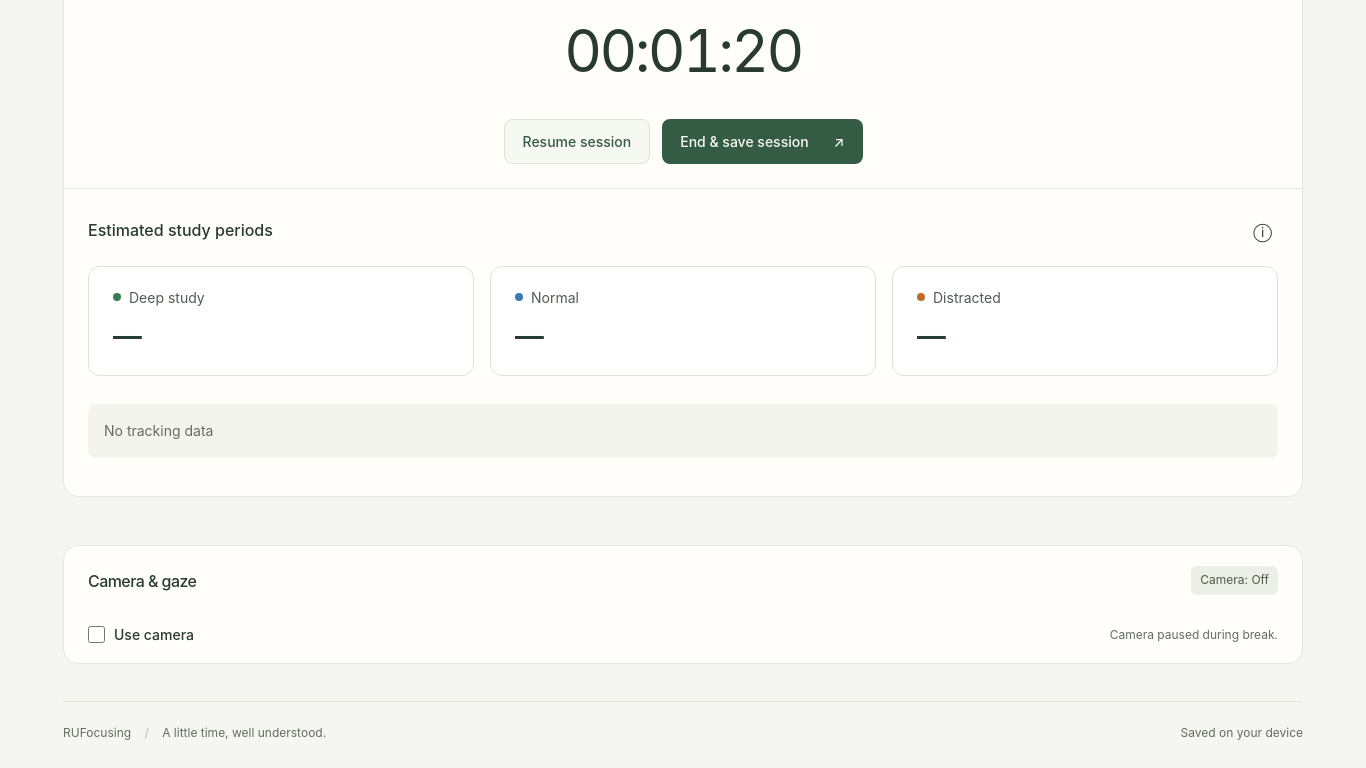
Scenario: Dashboard camera controls › keeps the preview closed when camera settings change during a break
(page scrolled)
Click the checkbox labelled "Use camera" at x=96, y=635, box [88, 626, 105, 644]
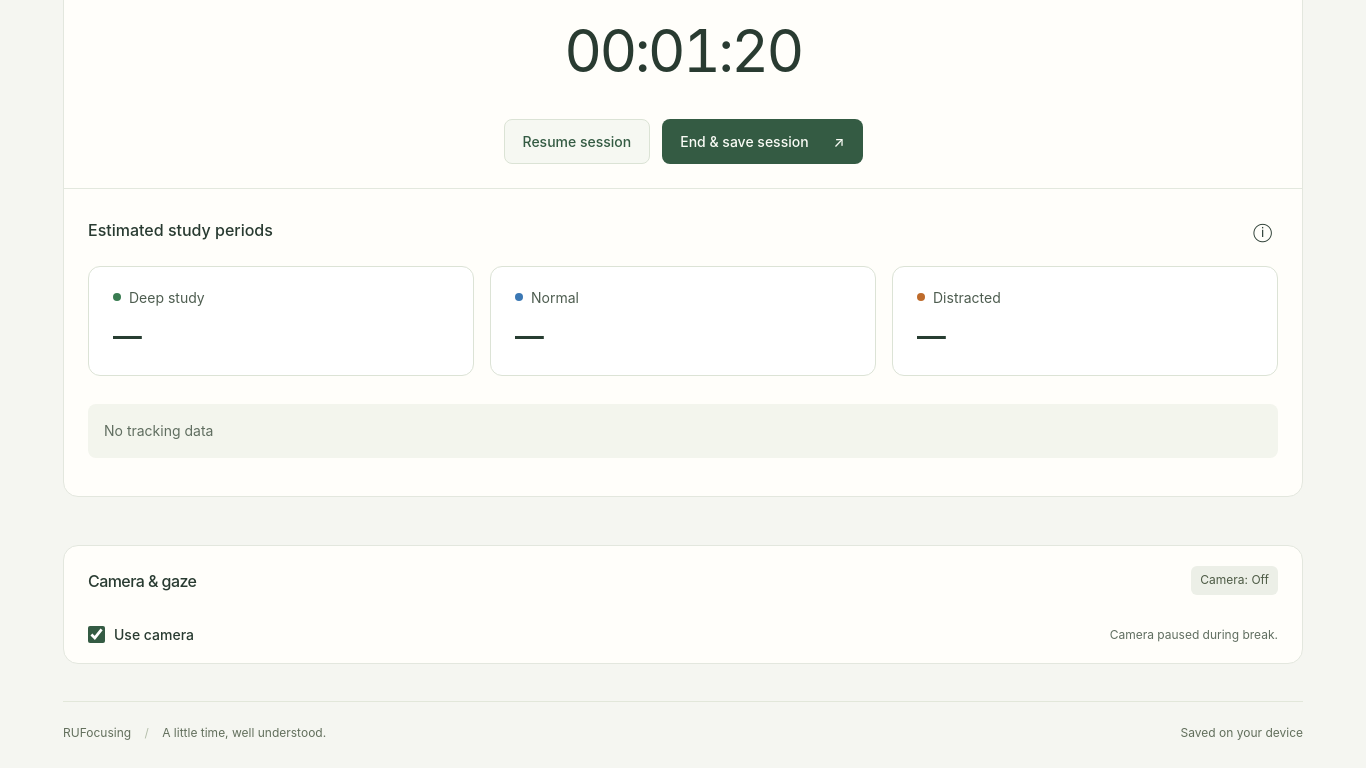
expect the text "Camera paused during break" is shown: met, box [1110, 627, 1278, 642]
Click the button "Resume session" at x=577, y=141, box [504, 119, 650, 164]
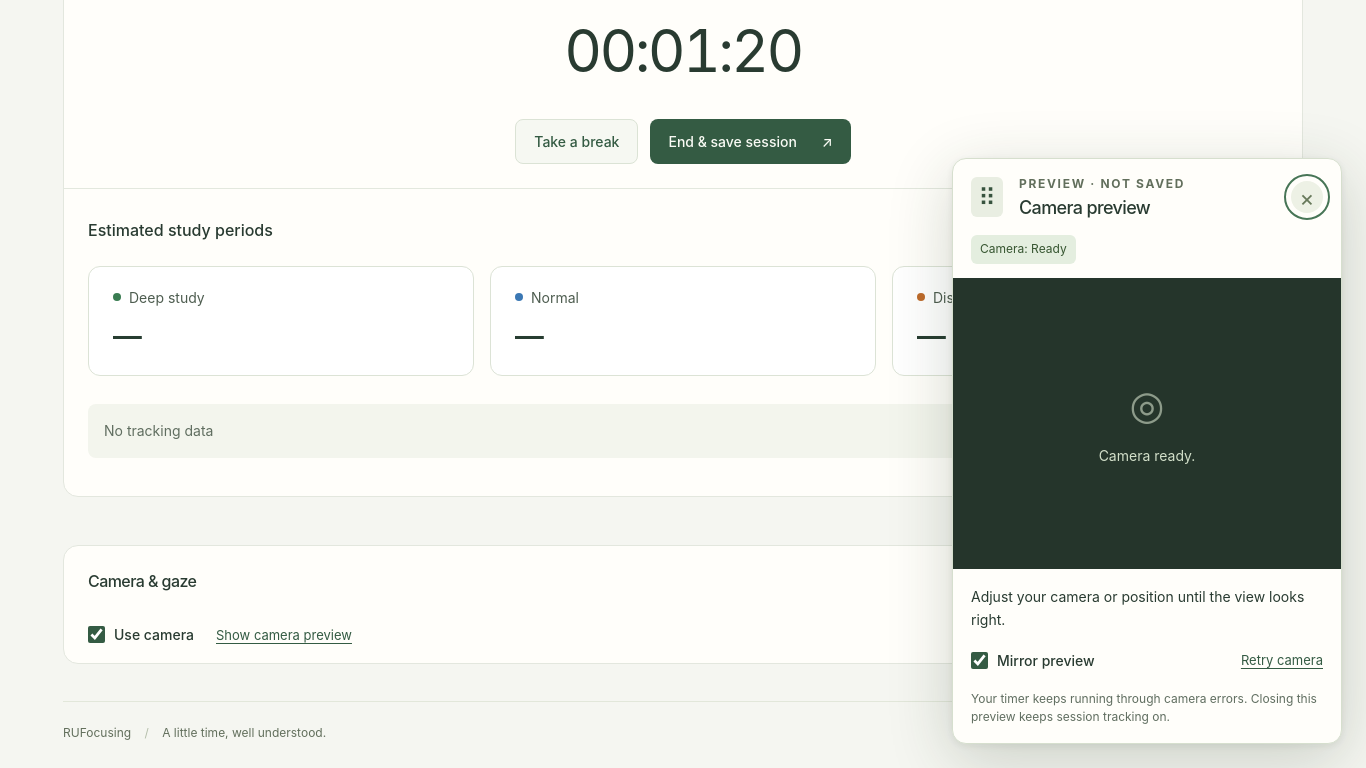
expect the dialog is shown: met, box [952, 158, 1342, 744]
